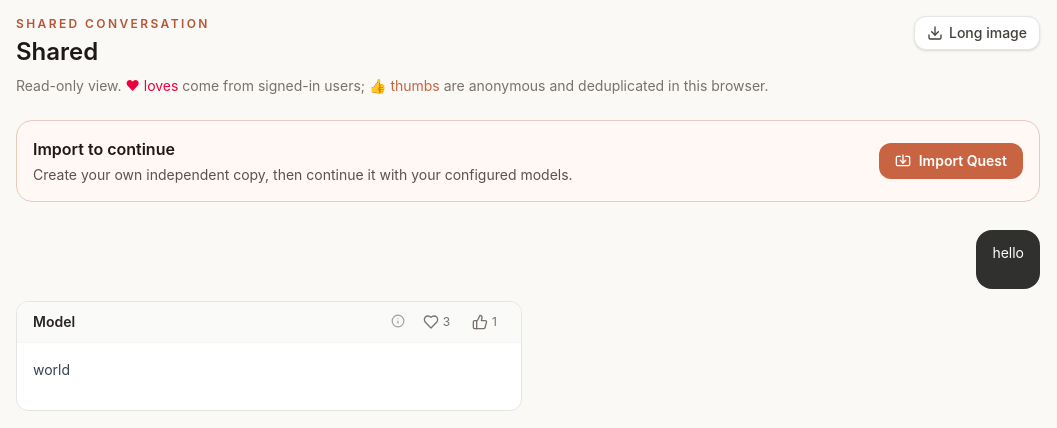
Scenario: SharedConversation › lets a signed-in viewer toggle a named love
The image size is (1057, 428).
Click the button named "Loves" at (436, 322), box left=415, top=310, right=458, bottom=334
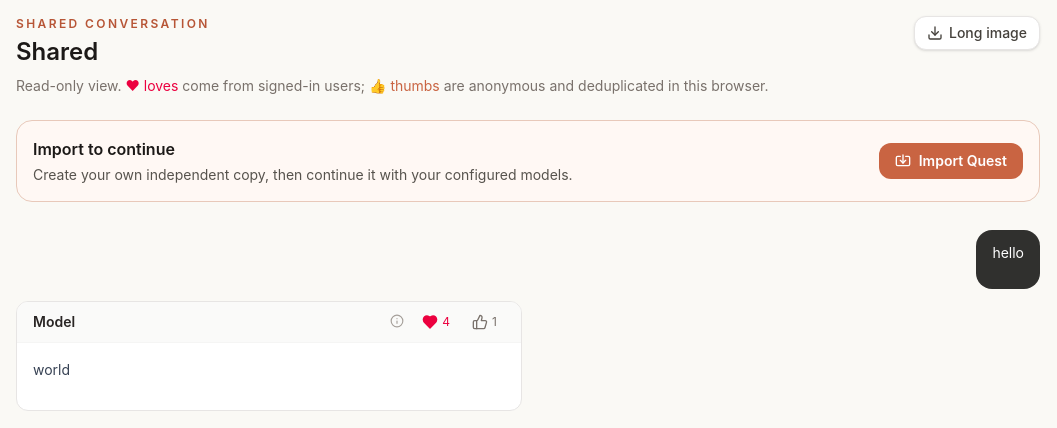
Expected: the button named "Loves" reads "4", left=414, top=310, right=458, bottom=334
